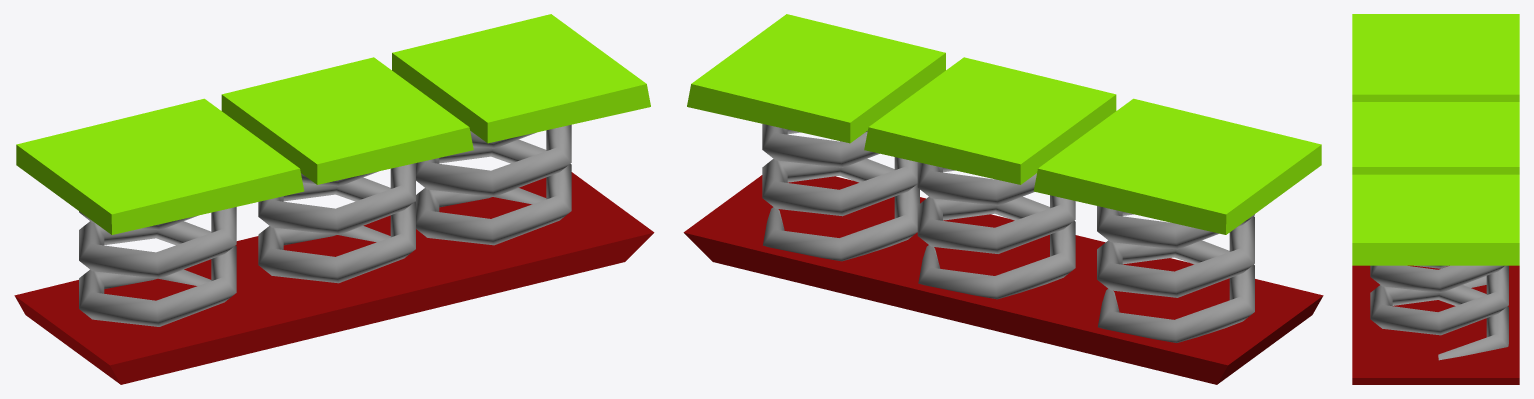
The model's file is SM_bouncy_2.FBX.
3 renders of one model, left to right at view 1: azimuth 30°, elevation 25°; view 2: azimuth 150°, elevation 25°; view 3: azimuth 270°, elevation 25°, orthographic. The views are drawn at different scales.
Visible parts, largest first — view 1: SM_bouncy_2; view 2: SM_bouncy_2; view 3: SM_bouncy_2.
Boxes of the visible parts, x1,y1,x2,y2 form: SM_bouncy_2: (14, 14, 654, 384); SM_bouncy_2: (683, 14, 1323, 384); SM_bouncy_2: (1352, 14, 1519, 384).
Size of the model in its own units: 329 by 99.74 by 100.
